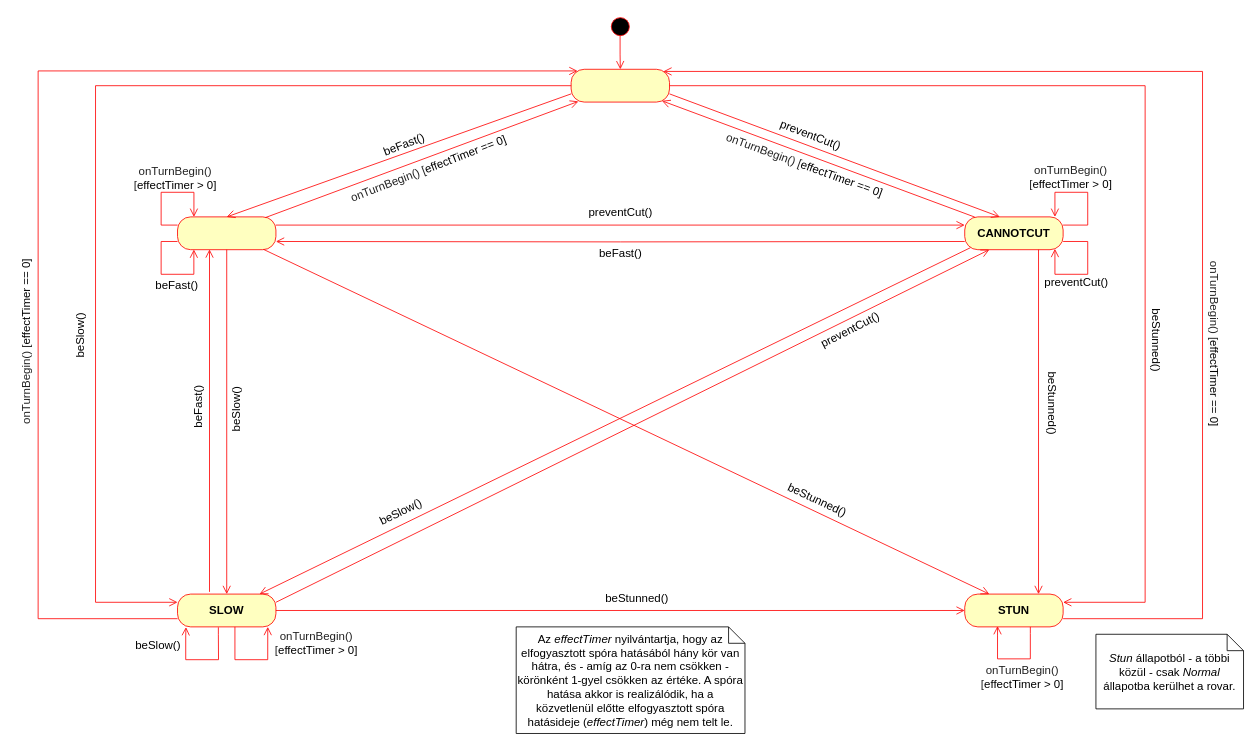
Some shapes in this 1258 by 748 pixel diagram are drawn without their labels. The shapes that lost their labels are listed below. From the top down, each one's centre as x and y in pixels, then its label:
the point at 620,85: NORMAL
the point at 226,233: FAST
